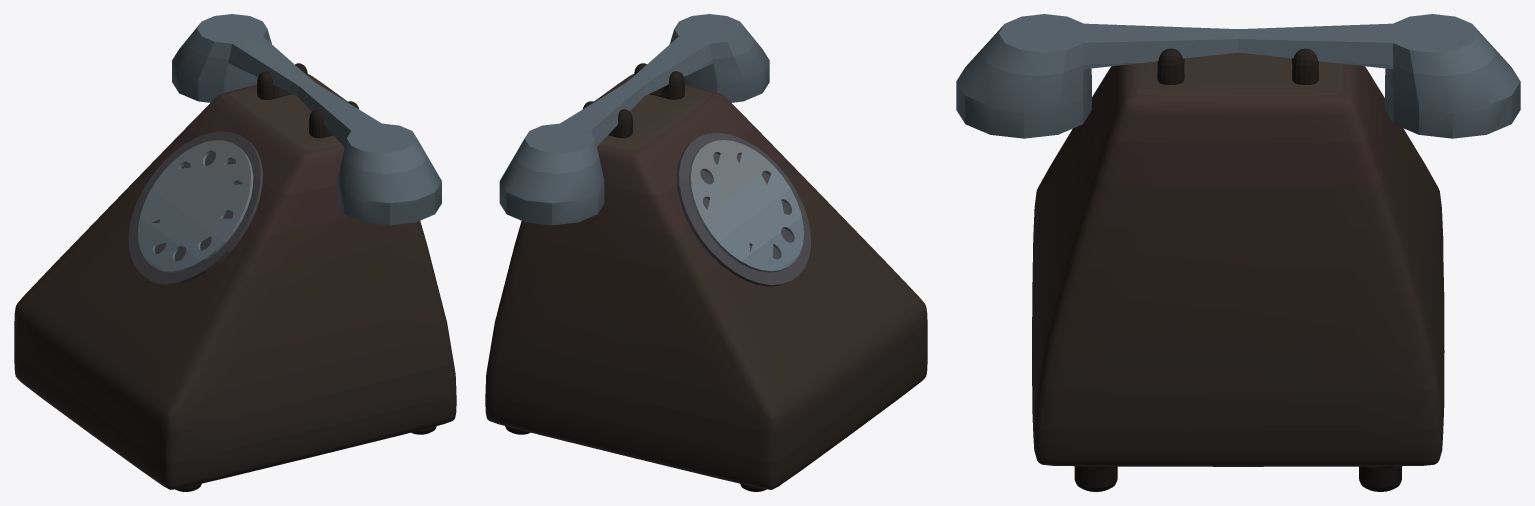
Rendered from telephone.fbx.
3 views of the same model, side by side, from view 1: azimuth 30°, elevation 25°; view 2: azimuth 150°, elevation 25°; view 3: azimuth 270°, elevation 25° (orthographic). The views are drawn at different scales.
Visible parts, largest first — view 1: telephone; view 2: telephone; view 3: telephone.
Boxes of the visible parts, left/top/right/bottom form: telephone: left=14, top=14, right=456, bottom=491; telephone: left=485, top=14, right=927, bottom=491; telephone: left=956, top=14, right=1520, bottom=491.
Size of the model in its own units: 31.37 by 32.58 by 40.06.
